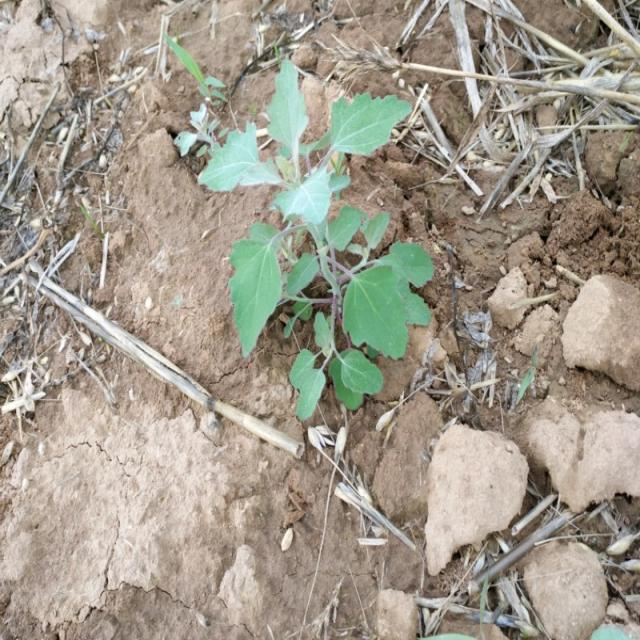goosefoots: (206, 54, 418, 403)
